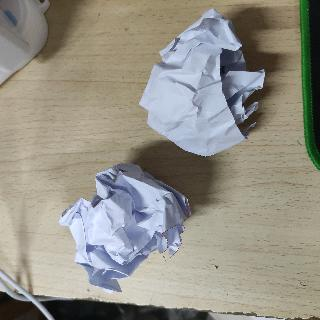8/可回收垃圾/纸: (137, 7, 266, 157), (57, 161, 193, 293)
